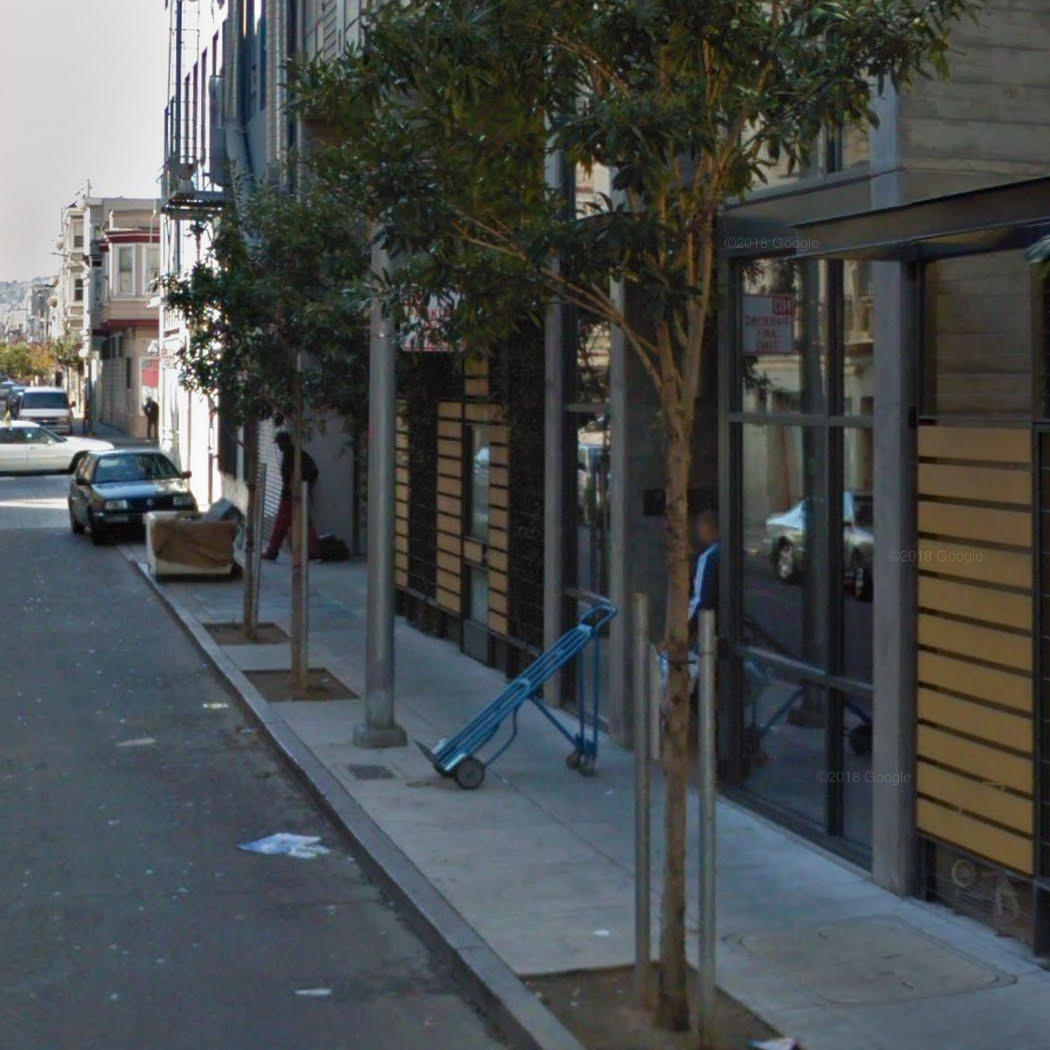No Parking: (398, 279, 467, 354), (742, 294, 791, 354)
